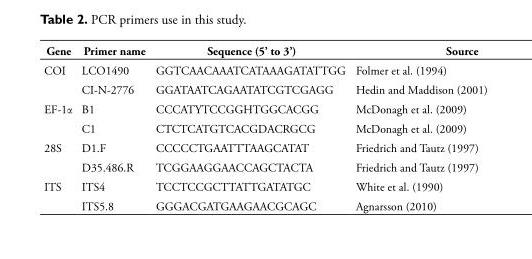table: (43, 43, 486, 213)
table column: (149, 43, 349, 213), (349, 43, 486, 213), (76, 43, 149, 213), (43, 43, 76, 213)
table column header: (43, 43, 486, 60)
table row: (43, 79, 486, 99), (43, 118, 486, 138), (43, 176, 486, 196), (43, 60, 486, 79), (43, 99, 486, 118), (43, 138, 486, 157), (43, 157, 486, 176), (43, 43, 486, 60), (43, 196, 486, 213)
table spanning cell: (43, 60, 76, 99), (43, 99, 76, 138), (43, 138, 76, 176), (43, 176, 76, 213)
